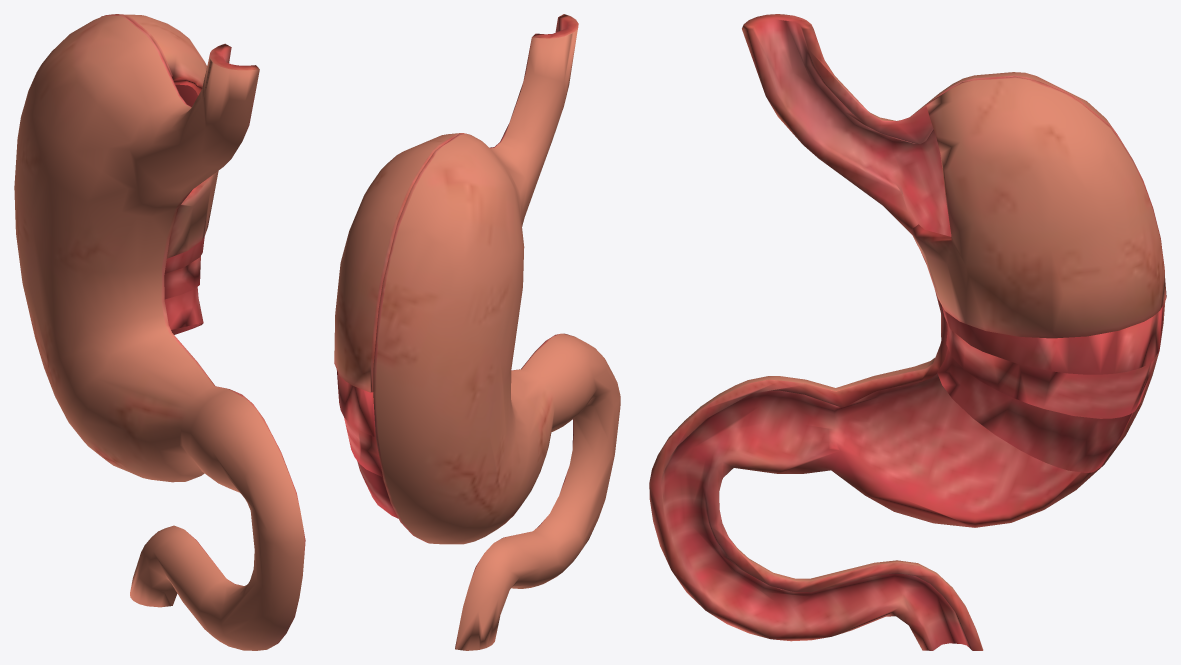
The model's file is PRP_Stomach_lod.glb.
The picture shows the model from 3 angles, left to right: view 1: azimuth 30°, elevation 25°; view 2: azimuth 150°, elevation 25°; view 3: azimuth 270°, elevation 25°; orthographic projection. The views are drawn at different scales.
Parts seen in each view (by area): view 1: Stomach_lambert1_0; view 2: Stomach_lambert1_0; view 3: Stomach_lambert1_0.
Part boxes in pixels (x1=…): Stomach_lambert1_0: x1=14, y1=14, x2=305, y2=650; Stomach_lambert1_0: x1=334, y1=14, x2=620, y2=650; Stomach_lambert1_0: x1=649, y1=14, x2=1166, y2=650.
Bounding box in the file's own units: 0.0255 × 0.09 × 0.0678.
1 material, 1 textured.
